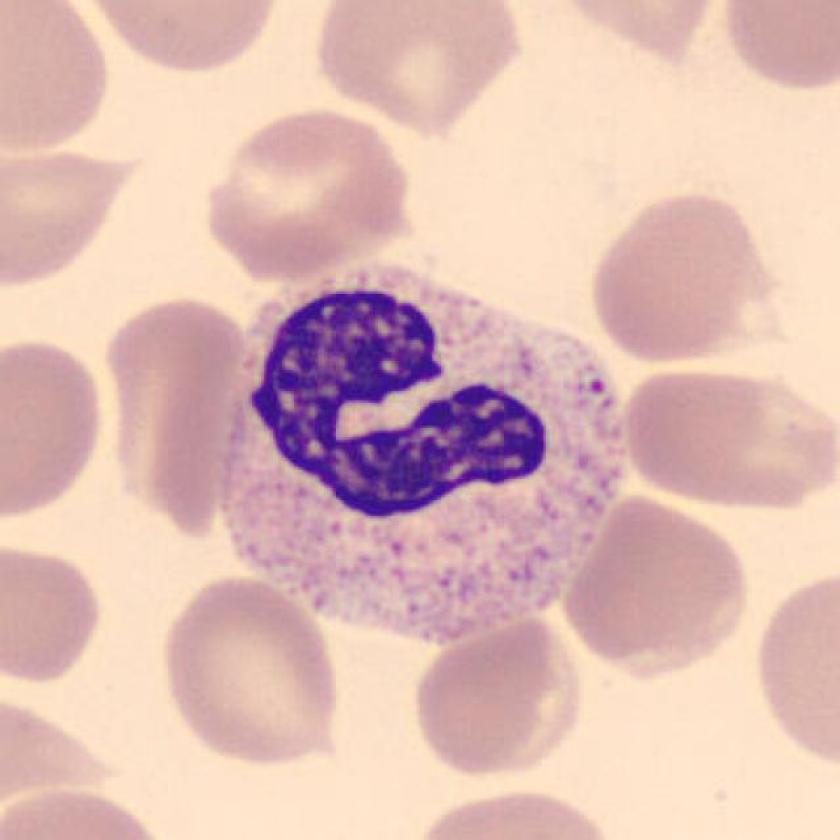neutrophil: (220, 261, 621, 645)
